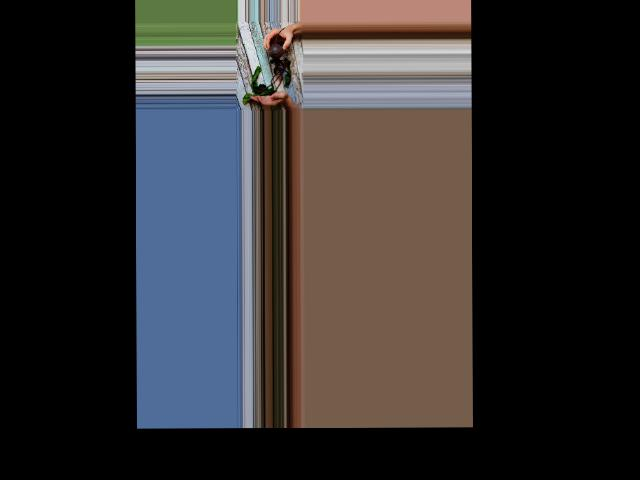beet: (242, 27, 290, 104)
